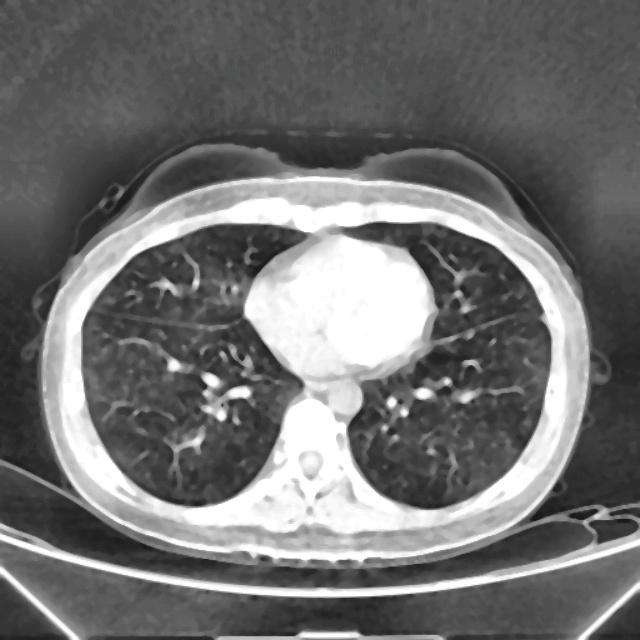covid: (35, 137, 592, 567)
